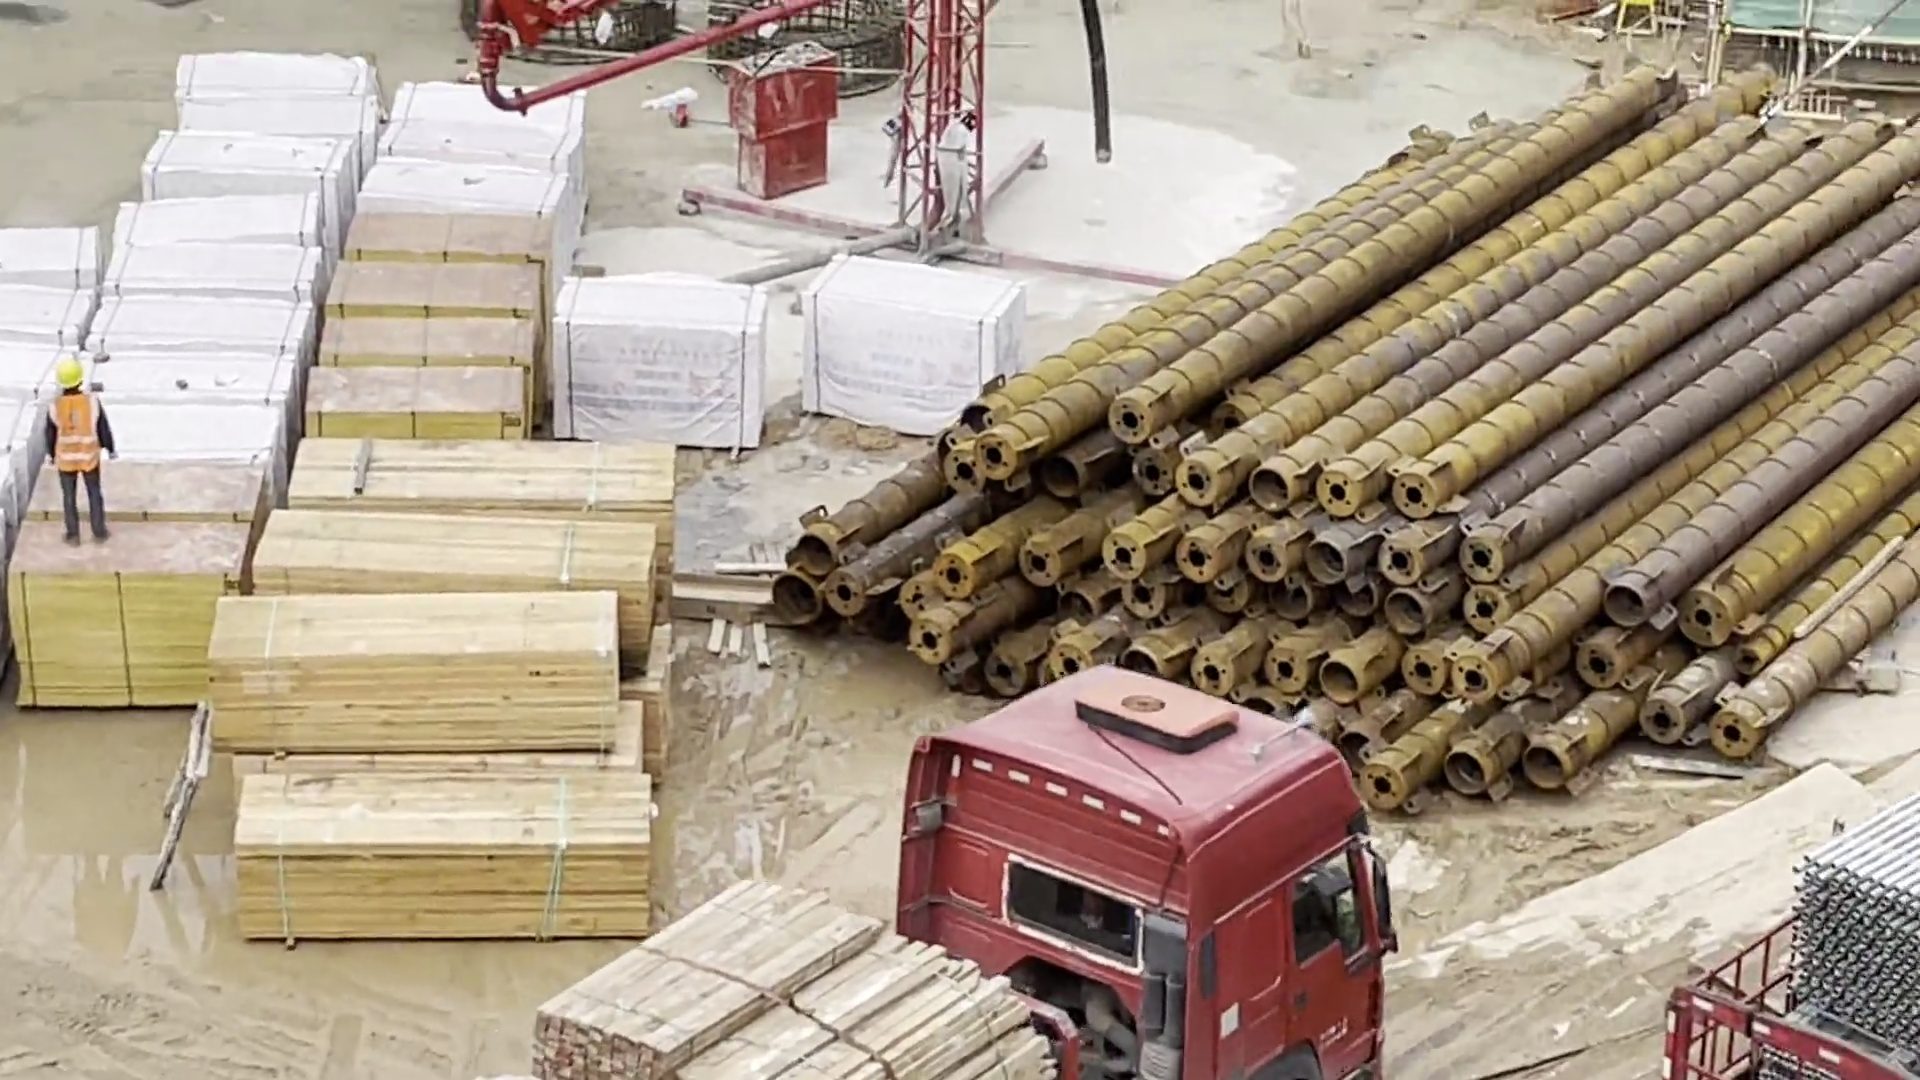helmet: (55, 363, 82, 385)
person: (43, 364, 125, 545)
scaffold: (1795, 794, 1920, 1045)
vest: (52, 395, 97, 473)
wood: (210, 430, 681, 936), (525, 872, 1073, 1080)
